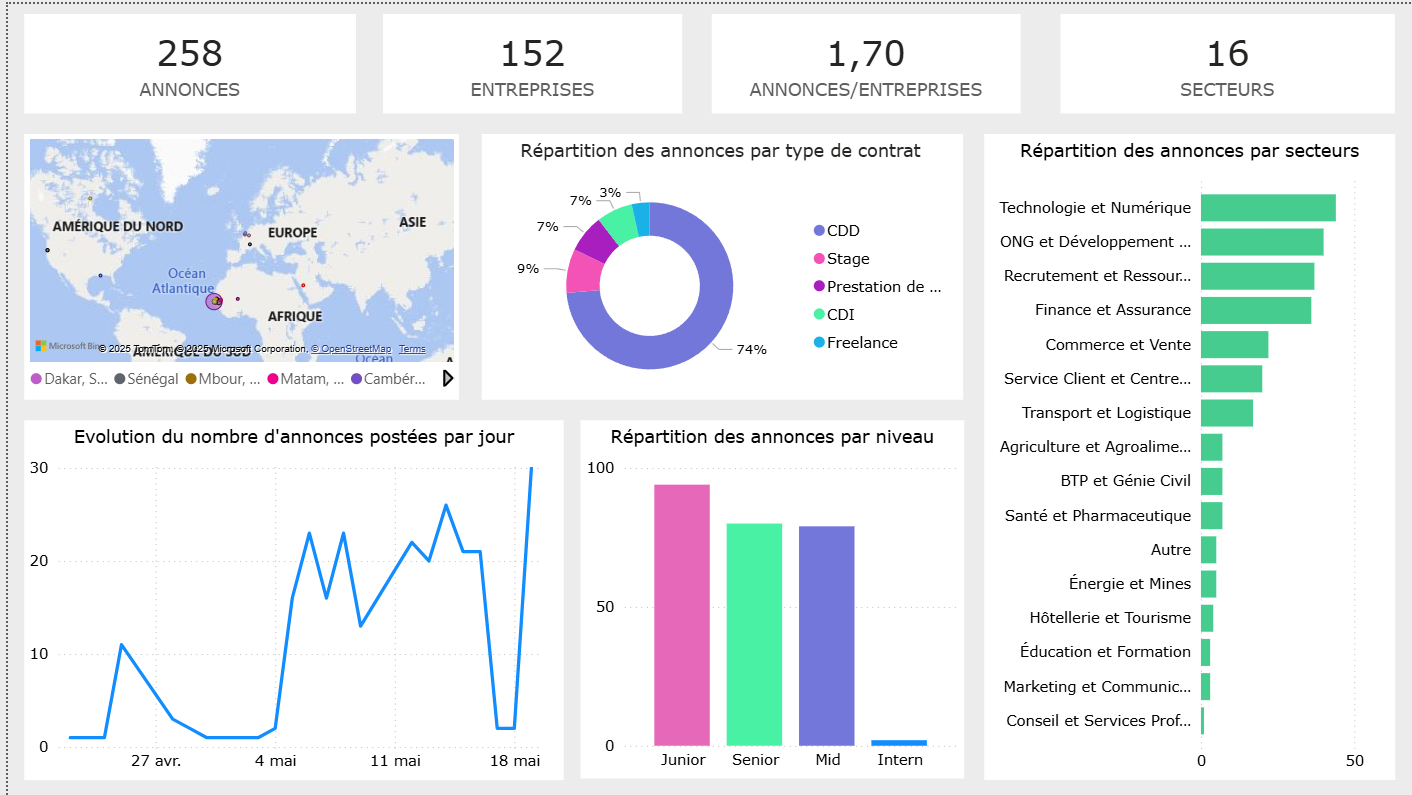

The page's visual inventory and layout, read from the dashboard file:
{"tool":"powerbi","page":{"name":"Dashboard","canvas":[1280,720],"ordinal":0},"visuals":[{"type":"card","fields":{"Values":["Worksheet2.ANNONCES"]},"box":[14.6,8.5,301.2,90.2],"z":0},{"type":"card","fields":{"Values":["Worksheet2.ENTREPRISES"]},"box":[341.5,8.5,272,90.2],"z":1000},{"type":"card","fields":{"Values":["Worksheet2.ANNONCES/ENTREPRISES"]},"box":[640.2,8.5,280.5,90.2],"z":2000},{"type":"card","fields":{"Values":["Worksheet2.SECTEURS"]},"box":[957.3,8.5,303.7,90.2],"z":3000},{"type":"donutChart","title":"Répartition des annonces par type de contrat","fields":{"Category":["Worksheet2.job_type"],"Y":["CountNonNull(Worksheet2.title)"]},"box":[430.5,118.3,437.8,241.5],"z":4000},{"type":"lineChart","title":"Evolution du nombre d''annonces postées par jour","fields":{"Category":["Worksheet2.date_posted.Variation.Hiérarchie de dates.Année","Worksheet2.date_posted.Variation.Hiérarchie de dates.Mois","Worksheet2.date_posted.Variation.Hiérarchie de dates.Jour"],"Y":["Worksheet2.ANNONCES"]},"box":[14.6,378,490.2,326.8],"z":5000},{"type":"barChart","title":"Répartition des annonces par secteurs","fields":{"Category":["Worksheet2.sector"],"Y":["Worksheet2.ANNONCES"]},"box":[887.8,118,373.2,587.3],"z":6000},{"type":"columnChart","title":"Répartition des annonces par niveau","fields":{"Category":["Worksheet2.level"],"Y":["CountNonNull(Worksheet2.title)"]},"box":[520,378.6,348.6,325.7],"z":7000},{"type":"map","fields":{"Size":["Worksheet2.ANNONCES"],"Category":["Worksheet2.location"],"Series":["Worksheet2.location"]},"box":[14.6,118.3,395.1,241.5],"z":8000}]}

Visuals, with their boxes in screenshot pixels (x1, y1, x2, y2), scaled from the page's 1280x720 canvas onto the 1412x795 screenshot:
card - Worksheet2.ANNONCES: (16, 9, 348, 109)
card - Worksheet2.ENTREPRISES: (377, 9, 677, 109)
card - Worksheet2.ANNONCES/ENTREPRISES: (706, 9, 1016, 109)
card - Worksheet2.SECTEURS: (1056, 9, 1391, 109)
"Répartition des annonces par type de contrat" donutChart: (475, 131, 958, 397)
"Evolution du nombre d''annonces postées par jour" lineChart: (16, 417, 557, 778)
"Répartition des annonces par secteurs" barChart: (979, 130, 1391, 779)
"Répartition des annonces par niveau" columnChart: (574, 418, 958, 778)
map - Worksheet2.ANNONCES x Worksheet2.location: (16, 131, 452, 397)
